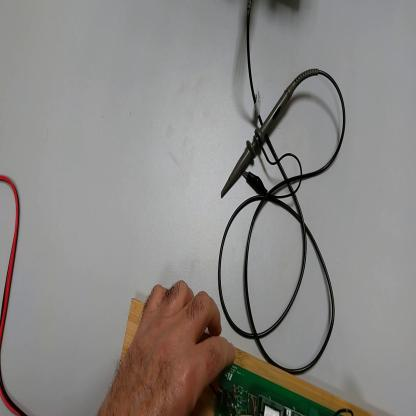hand: (97, 278, 234, 416)
high voltage board: (208, 360, 354, 416)
oscilloscope probe tip: (222, 79, 301, 199)
working area: (121, 302, 372, 415)
